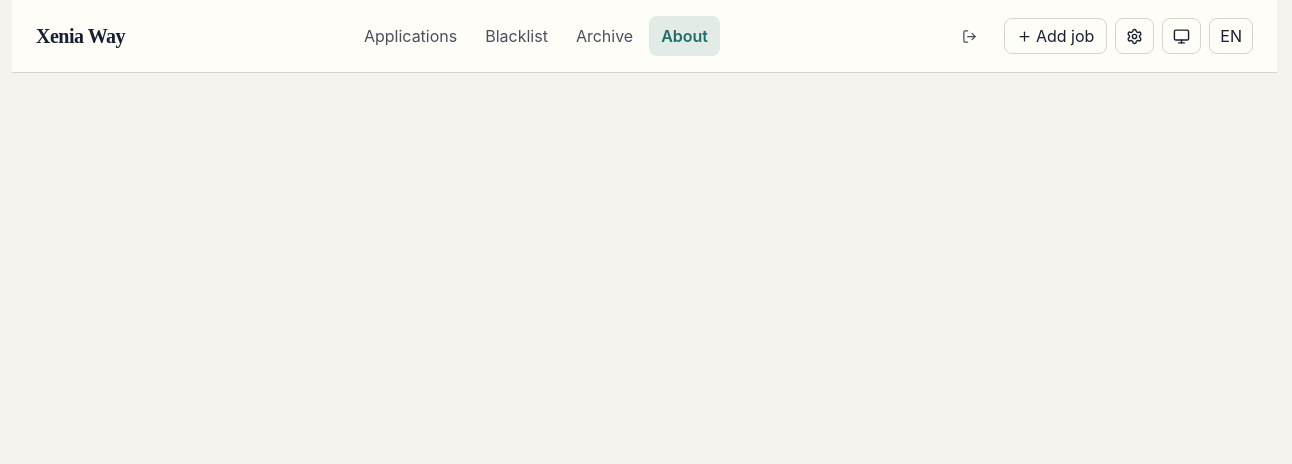
Scenario: dismissing compact feedback preserves outstanding choices for an explicit Settings retry
Click the button named "Theme: System. Change theme".
click(1182, 36)  # box [1162,18,1201,54]
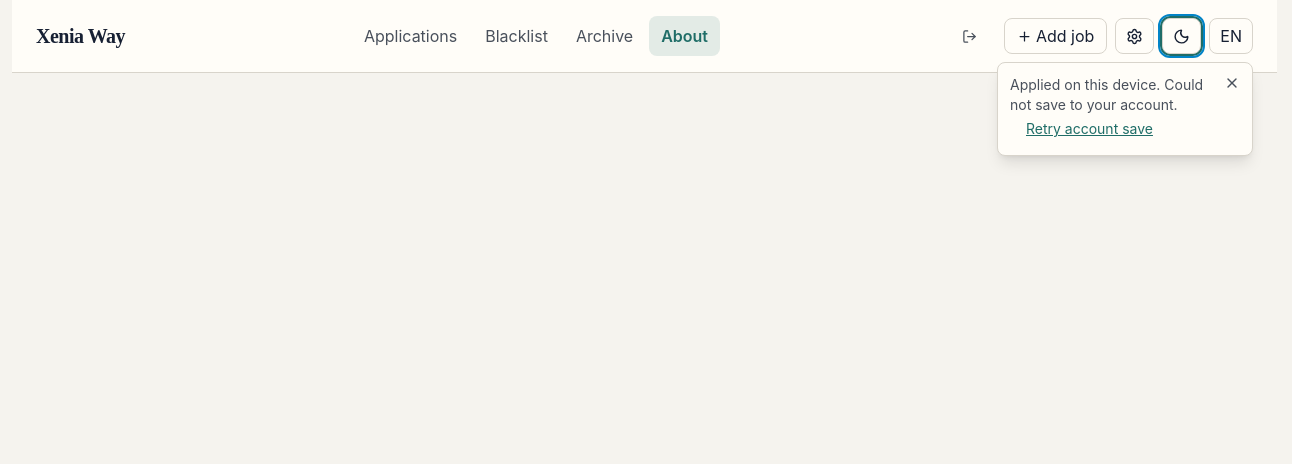
Now the button "Retry account save" is shown, box [1018,115,1161,143]
Click the button named "Dismiss preference notice".
click(1232, 83)  # box [1216,67,1248,99]
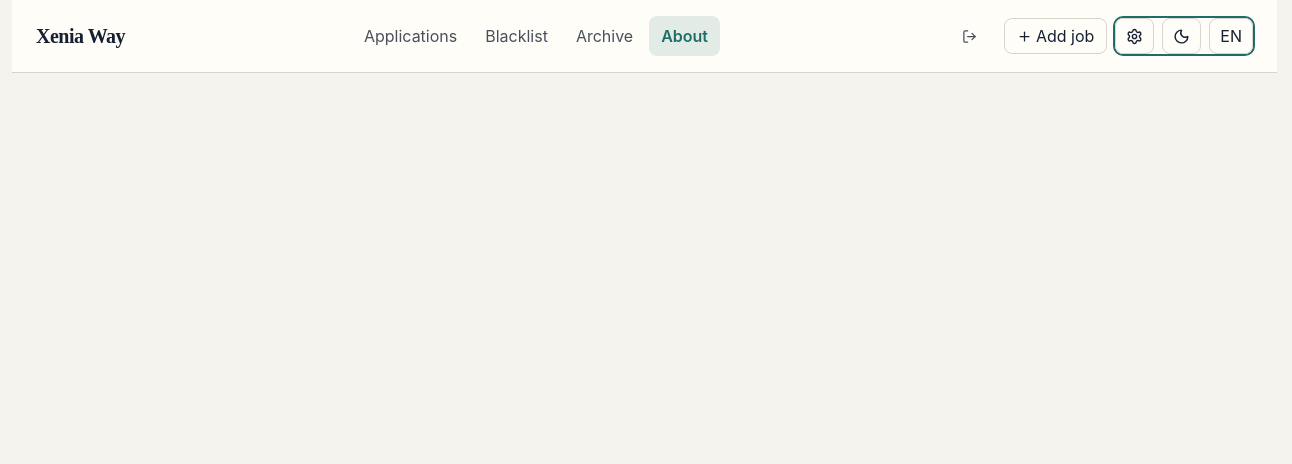
Now the message "Applied on this device. Could not save to your account. Retry account save" is gone
Click the link named "Settings".
click(1135, 36)  # box [1115,18,1154,54]
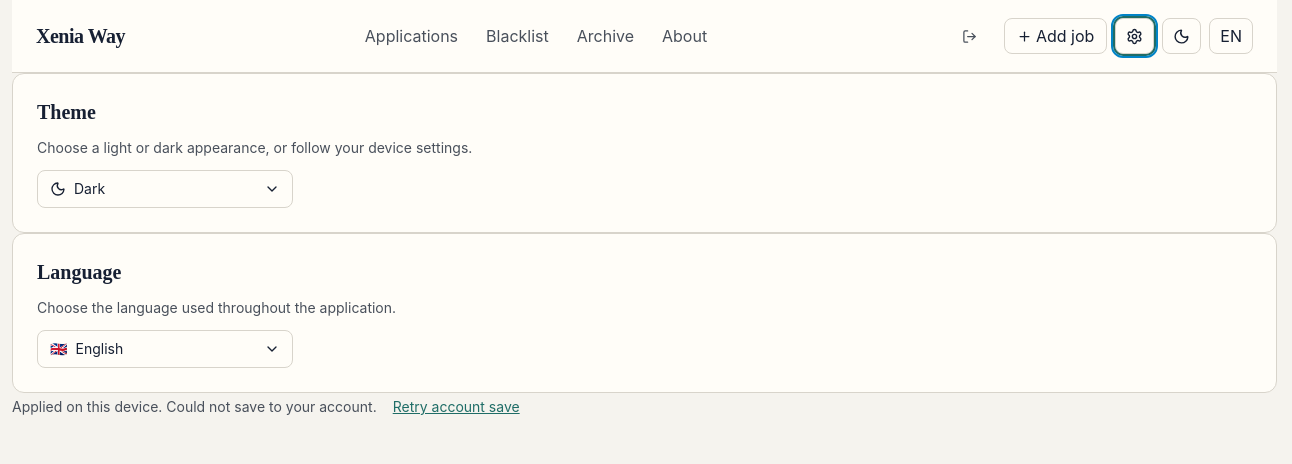
Click the button "Retry account save".
click(456, 407)  # box [385,393,528,421]
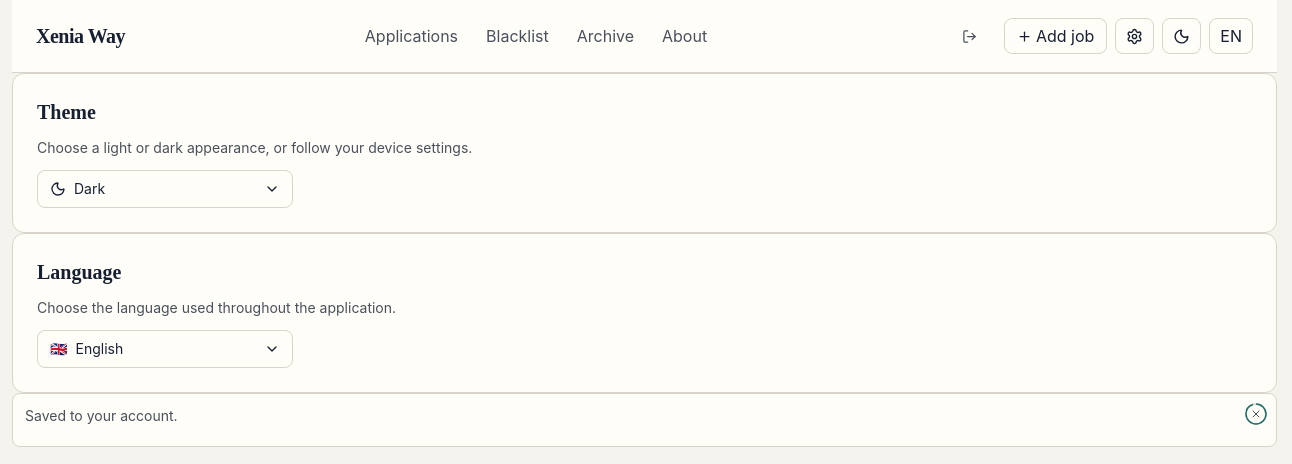
Now the message reads "Saved to your account.", box [25,407,178,424]
